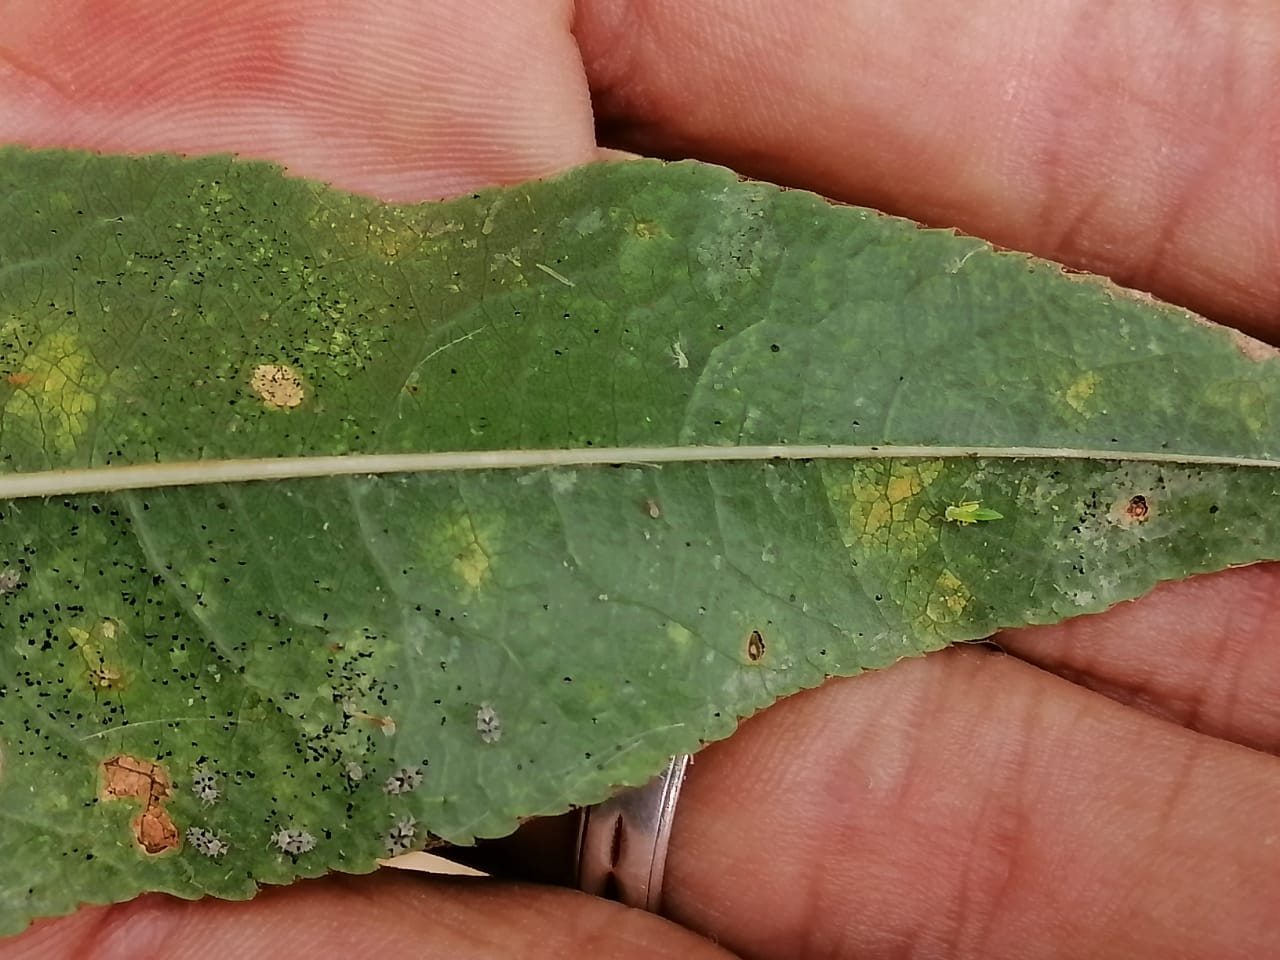faux tigre: (1, 155, 1268, 941)
